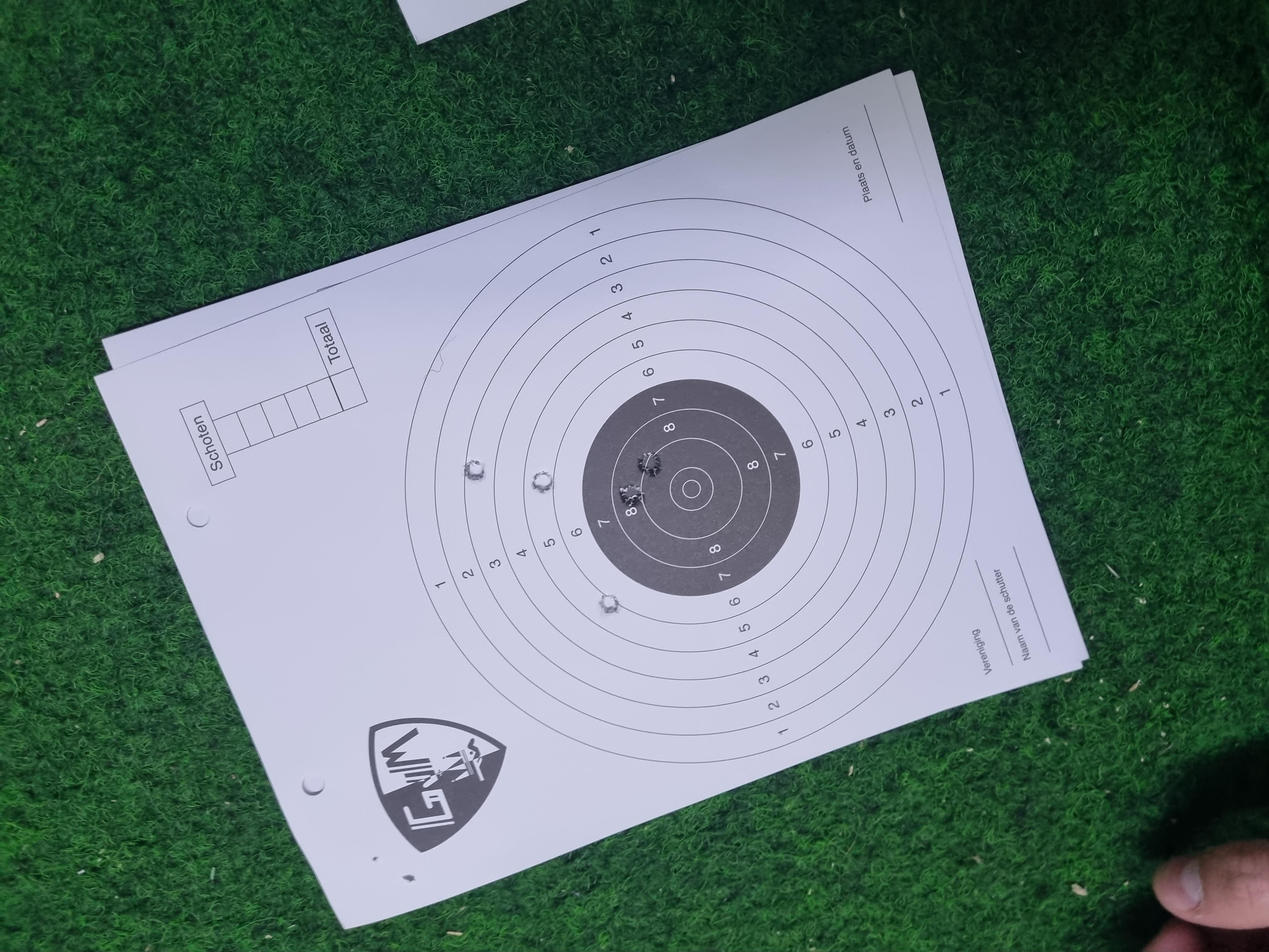hole: (632, 479, 666, 497), (593, 464, 623, 484), (611, 399, 641, 415), (628, 348, 656, 364), (450, 449, 477, 465)
